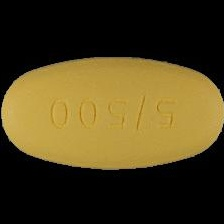54868-5243: (0, 0, 224, 224)
